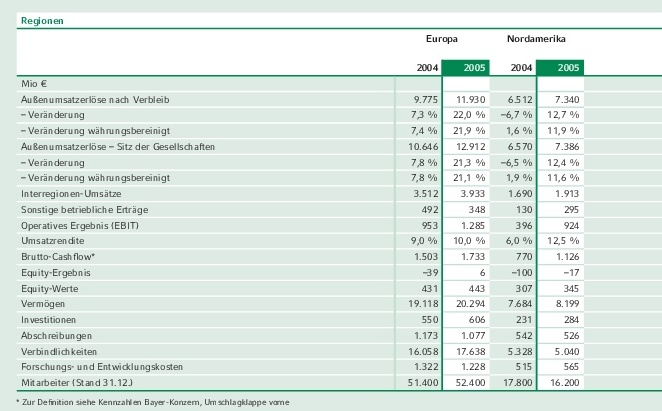table: (0, 0, 662, 411)
